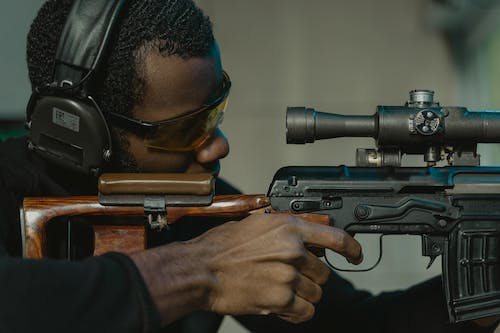gun: (16, 87, 500, 327)
